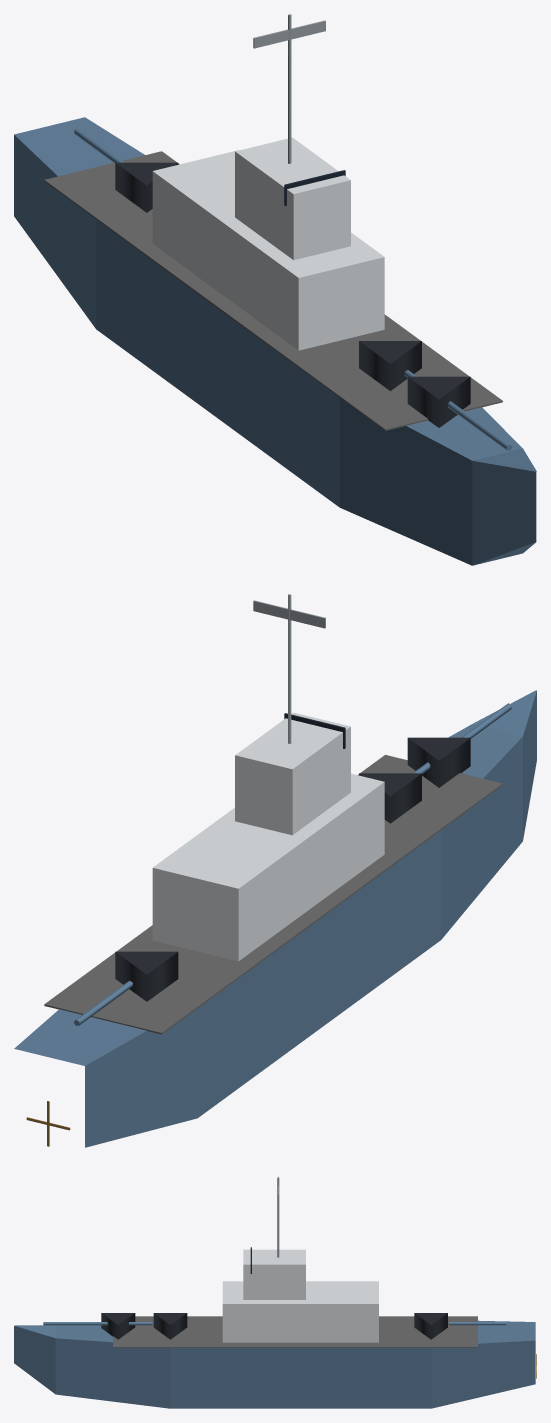
Rendered from veh_naval_warship_a10_lod2.glb.
The picture shows the model from 3 angles, top to bottom: view 1: azimuth 30°, elevation 25°; view 2: azimuth 150°, elevation 25°; view 3: azimuth 270°, elevation 25°; orthographic projection. The views are drawn at different scales.
Parts seen in each view (by area): view 1: body, turret_0, turret_1, turret_2, radar; view 2: body, turret_2, turret_0, turret_1, radar; view 3: body, turret_2, turret_0, turret_1.
Part boxes in pixels (bbox=[...]): body: bbox=[14, 14, 536, 565]; turret_0: bbox=[407, 376, 512, 450]; turret_1: bbox=[359, 341, 457, 414]; turret_2: bbox=[74, 128, 178, 212]; radar: bbox=[253, 20, 325, 48]; body: bbox=[14, 594, 536, 1147]; turret_2: bbox=[73, 951, 178, 1025]; turret_0: bbox=[407, 703, 511, 787]; turret_1: bbox=[359, 762, 430, 823]; radar: bbox=[253, 600, 325, 628]; body: bbox=[14, 1177, 535, 1408]; turret_2: bbox=[414, 1313, 506, 1339]; turret_0: bbox=[43, 1313, 135, 1339]; turret_1: bbox=[97, 1313, 187, 1339].
Bounding box in the file's own units: 6.09 × 20.13 × 43.83.
